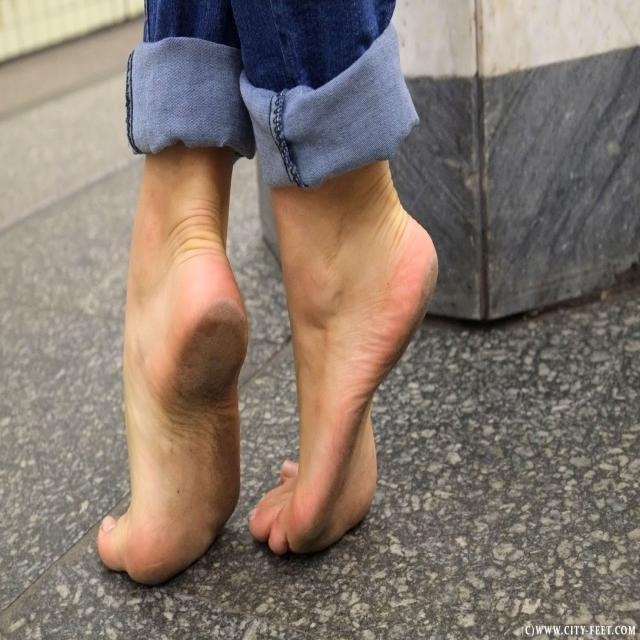Barefoots: (249, 217, 439, 556), (98, 255, 249, 586)
